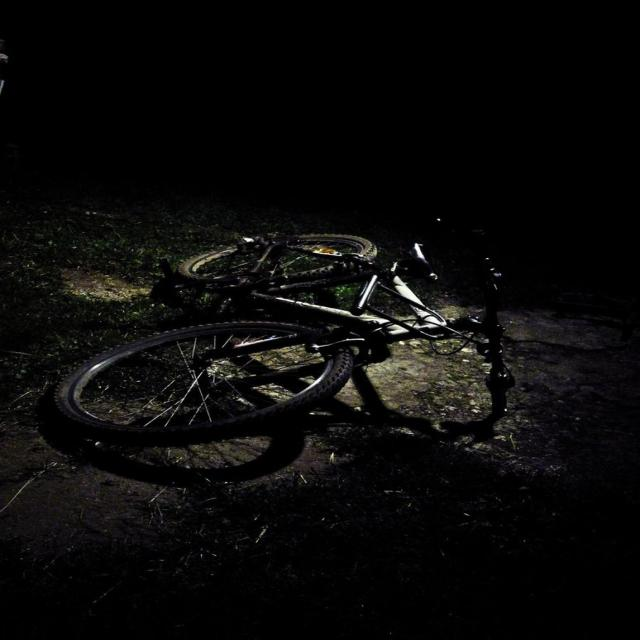Bicycle: (87, 181, 542, 488)
